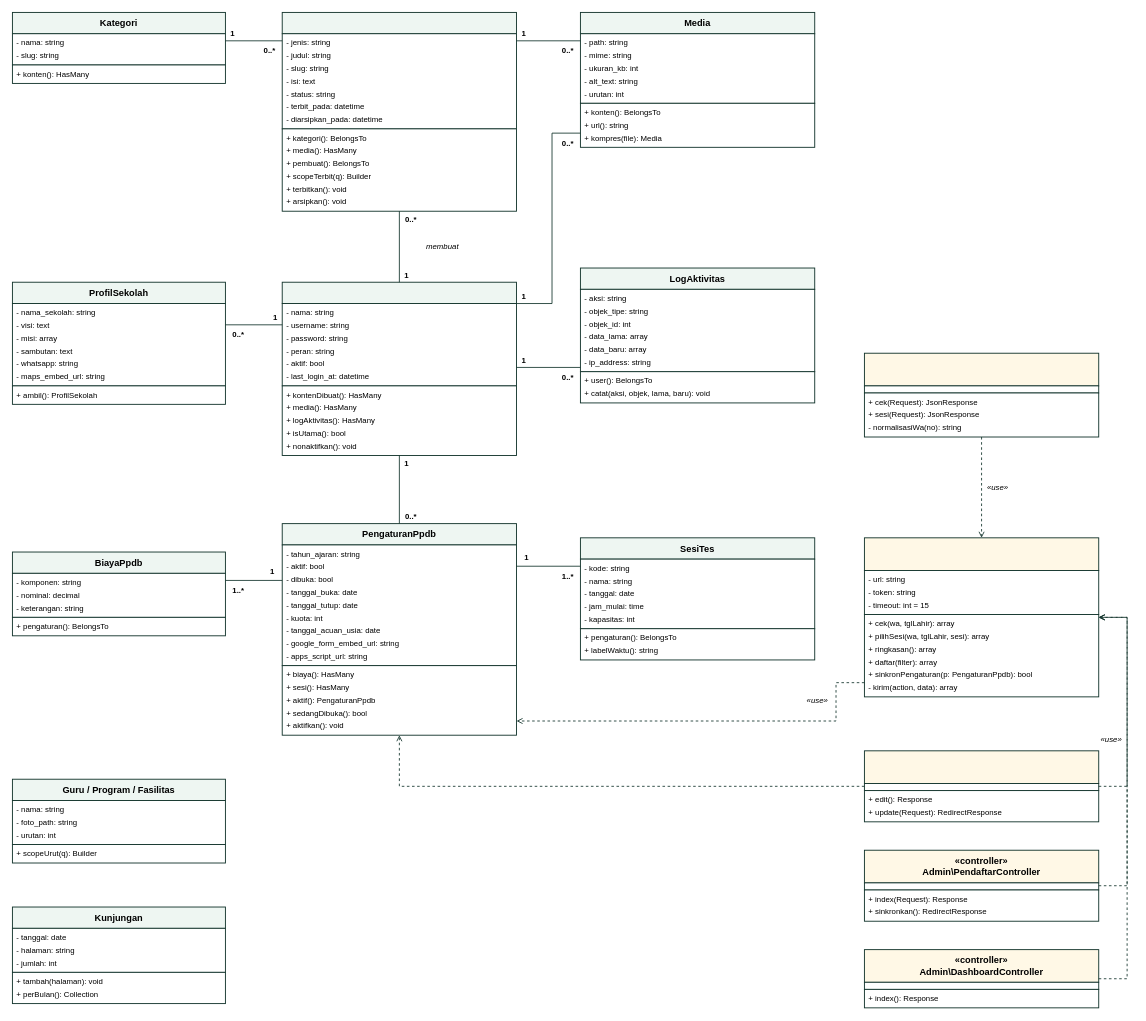
Some shapes in this 1146 by 1021 pixel diagram are drawn without their labels. The centre of each missing label's shape, as x and y in pixels:
Konten: the point at 399,23
User: the point at 399,292
«controller» Admin\PengaturanPpdbController: the point at 981,767
«controller» PpdbStatusController: the point at 981,369
«service» AppsScriptClient: the point at 981,554
